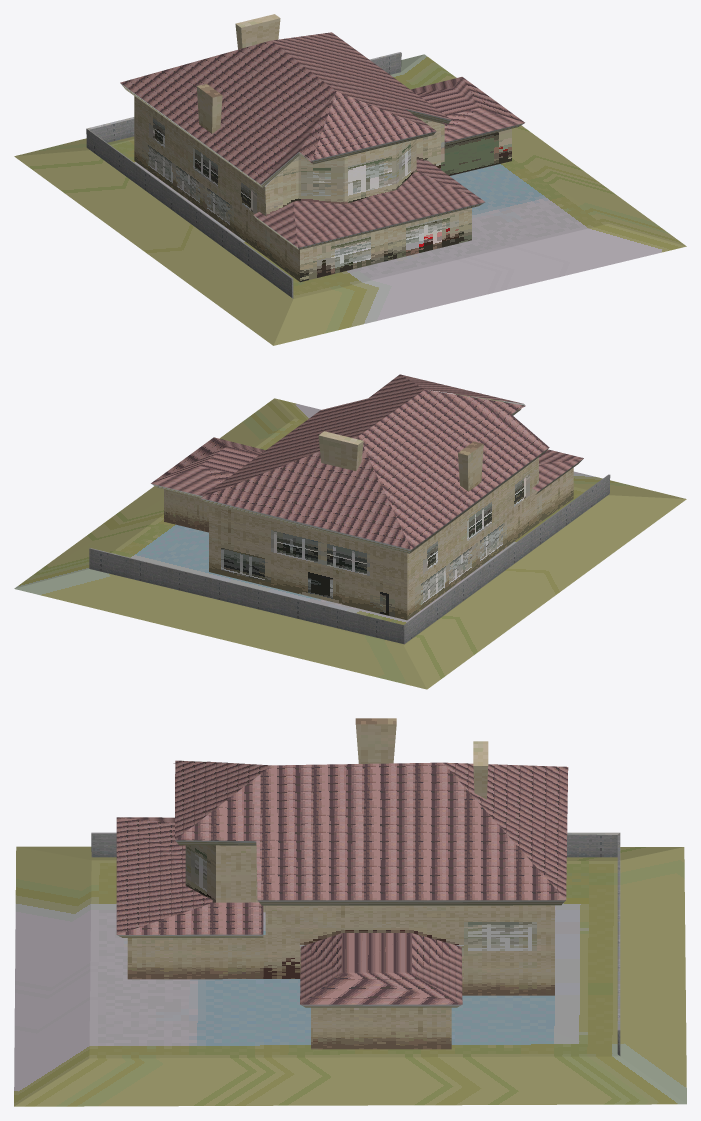
File: lodasxrexhse05.obj
3 views of the same model, one above another, from view 1: azimuth 30°, elevation 25°; view 2: azimuth 150°, elevation 25°; view 3: azimuth 270°, elevation 25° (orthographic). The views are drawn at different scales.
Visible parts, largest first — view 1: lodasxrexhse05; view 2: lodasxrexhse05; view 3: lodasxrexhse05.
Boxes of the visible parts, x1=… form: lodasxrexhse05: x1=14, y1=14, x2=686, y2=345; lodasxrexhse05: x1=14, y1=374, x2=686, y2=689; lodasxrexhse05: x1=14, y1=718, x2=686, y2=1106.
Size of the model in its own units: 39.44 by 14 by 43.25.
Materials: 8 (8 with a texture image).
